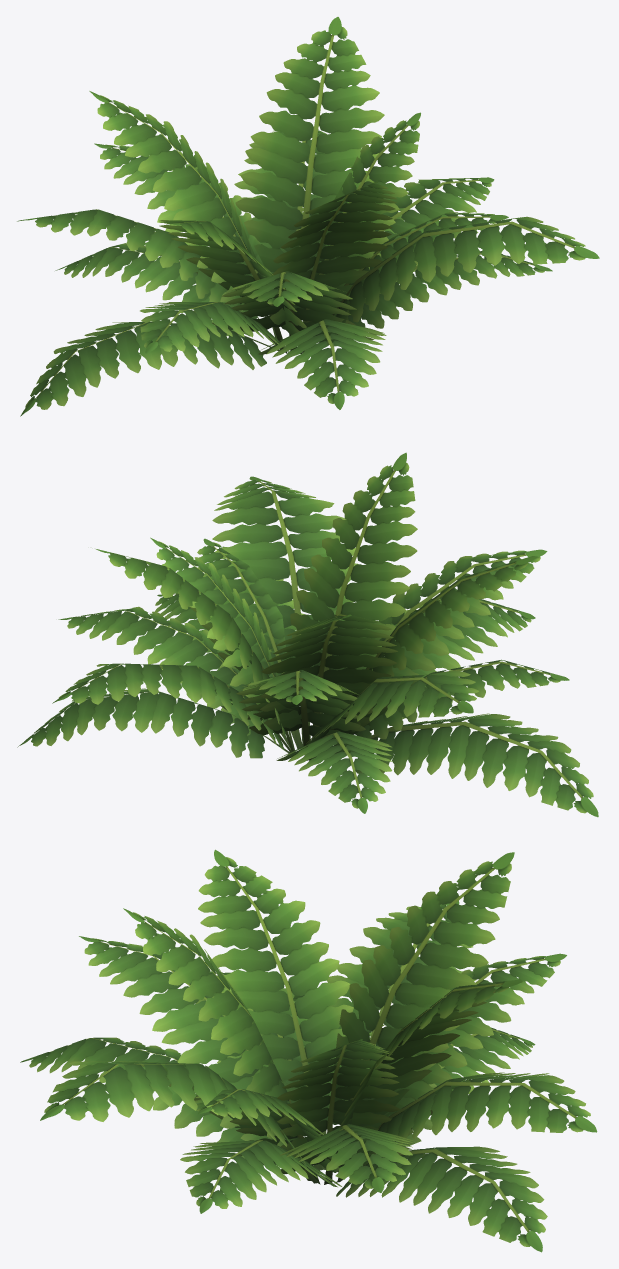
Rendered from fern_b.glb.
3 views of the same model, one above another, from view 1: azimuth 30°, elevation 25°; view 2: azimuth 150°, elevation 25°; view 3: azimuth 270°, elevation 25° (orthographic). The views are drawn at different scales.
Visible parts, largest first — view 1: fern_b_mesh; view 2: fern_b_mesh; view 3: fern_b_mesh.
Part boxes in pixels (x1,y1,x2,y2): fern_b_mesh: (17, 17, 599, 416); fern_b_mesh: (17, 452, 598, 817); fern_b_mesh: (20, 849, 597, 1252).
Size of the model in its own units: 1.2 by 0.5372 by 1.06.
1 material, 1 textured.
